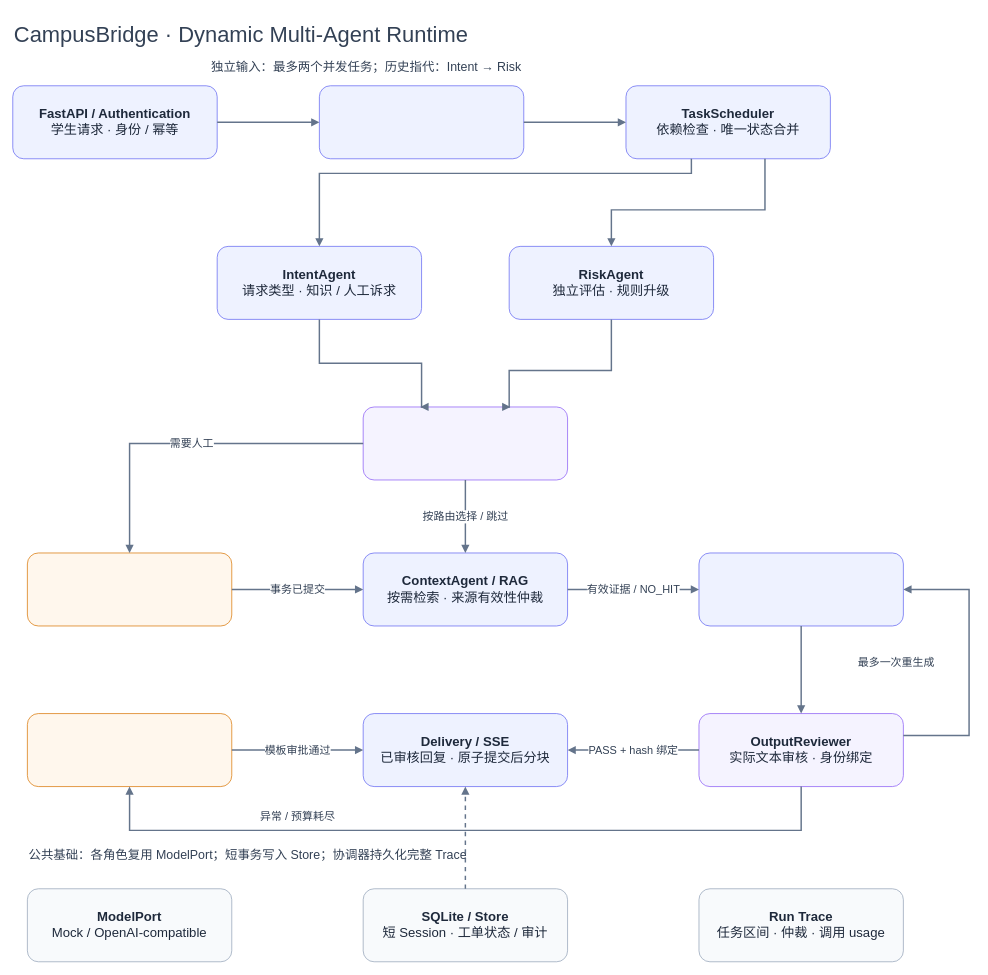
This 988x975 diagram has some shape labels left out. Each missing label, with the centre of its shape:
Arbitrator 最终路由 · 冲突 / 证据 / 原因: the point at 465,443
ResponseAgent 完整候选 · candidate / hash: the point at 800,589
Risk / Human Checkpoint 先提交事件 / 工单: the point at 129,589
Safe Fallback 固定模板 · 独立审批: the point at 129,750
TaskPlanner 类型化 DAG · 条件 / 预算: the point at 421,122
